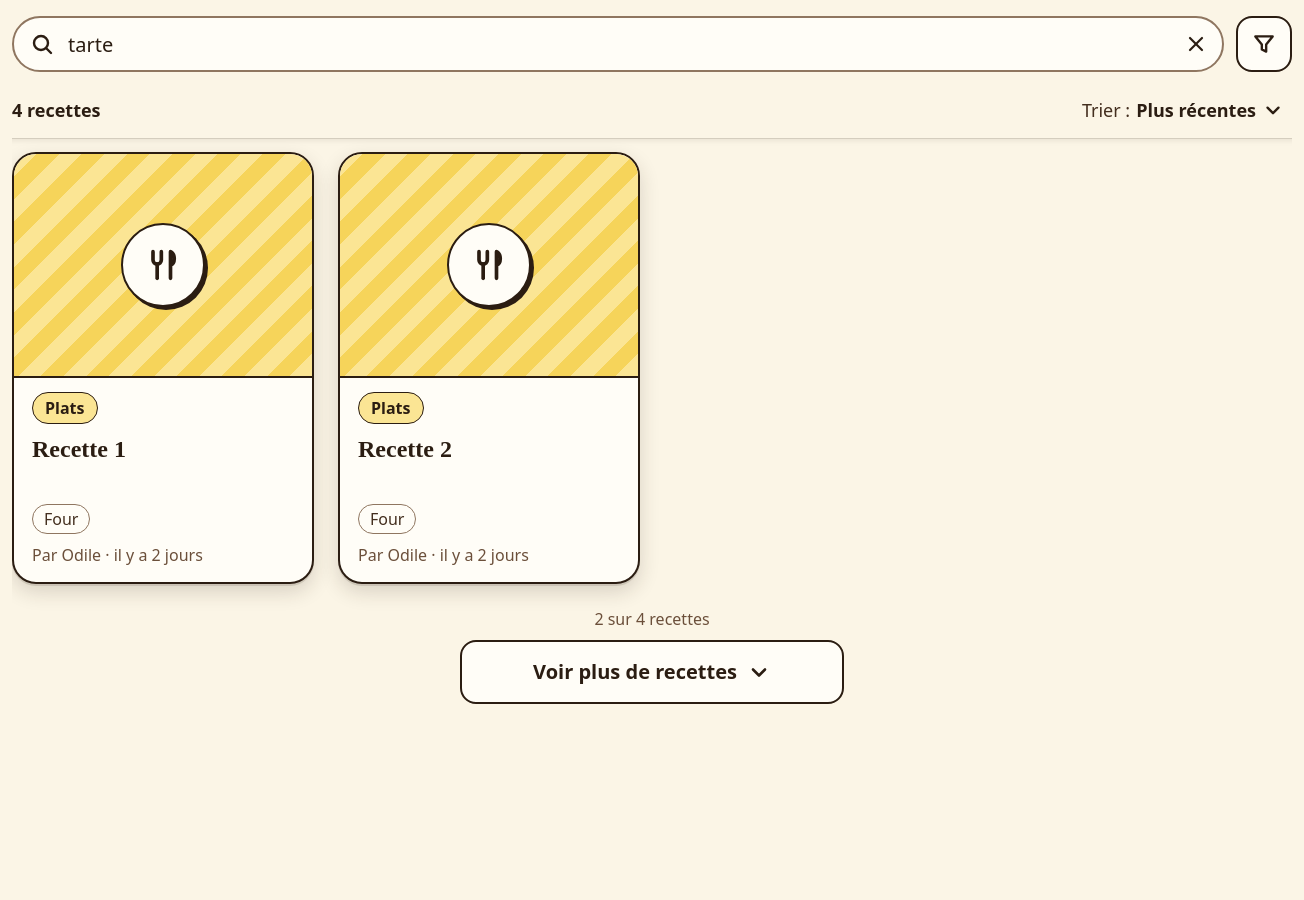
SearchScreen on a phone › « Voir plus de recettes » › adds the next page under the others and ends with a sentence
Check: the text "2 sur 4 recettes" is shown, box [594,608,710,630]
Click the button "Voir plus de recettes". click: {"x": 652, "y": 672}
box: [460,640,844,704]
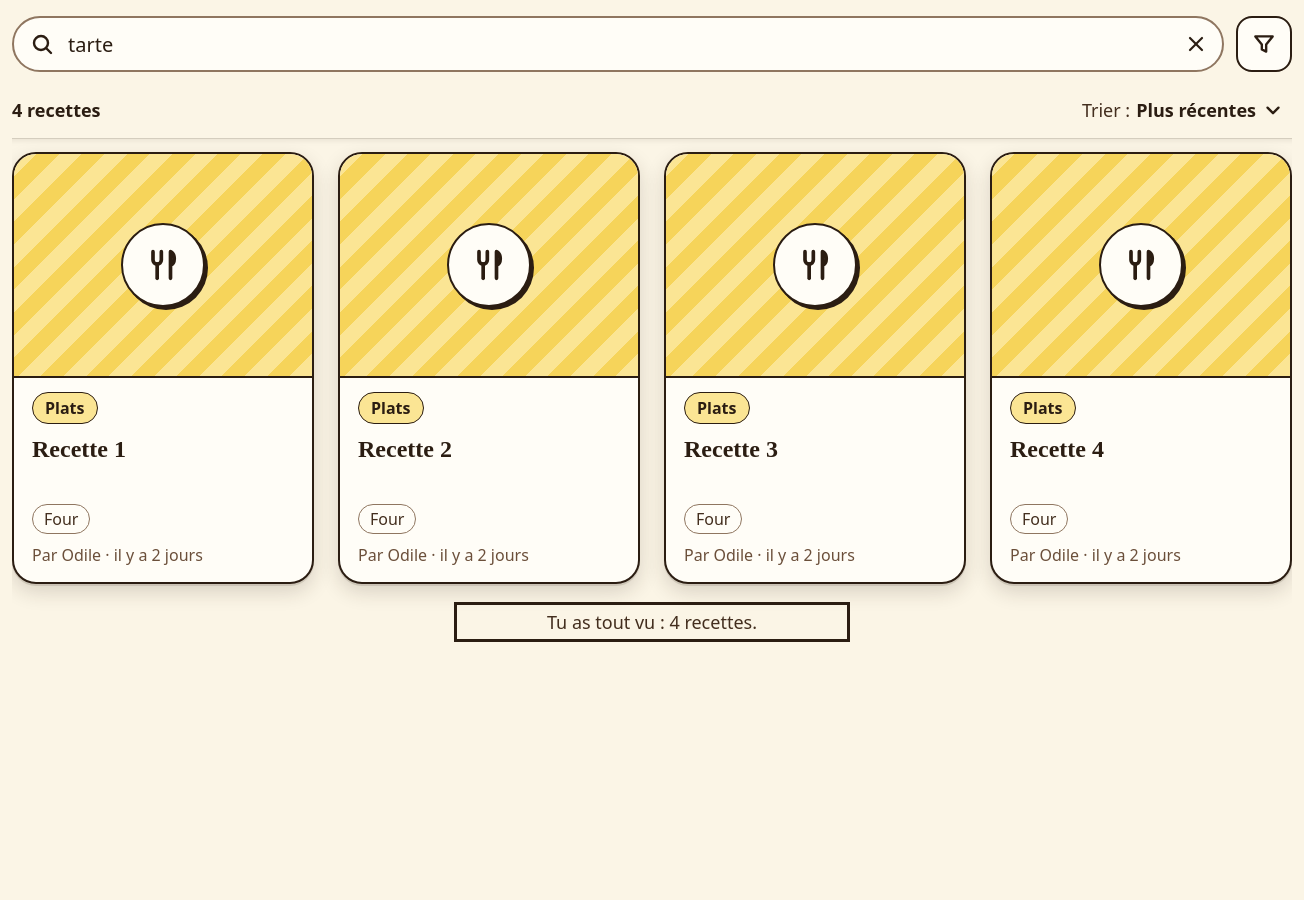
Check: the number of links "Plats Recette 1 Four Par Odile · il y a 2 jours" is 4, box [12,152,314,584]; [338,152,640,584]; [664,152,966,584]; [990,152,1292,584]
